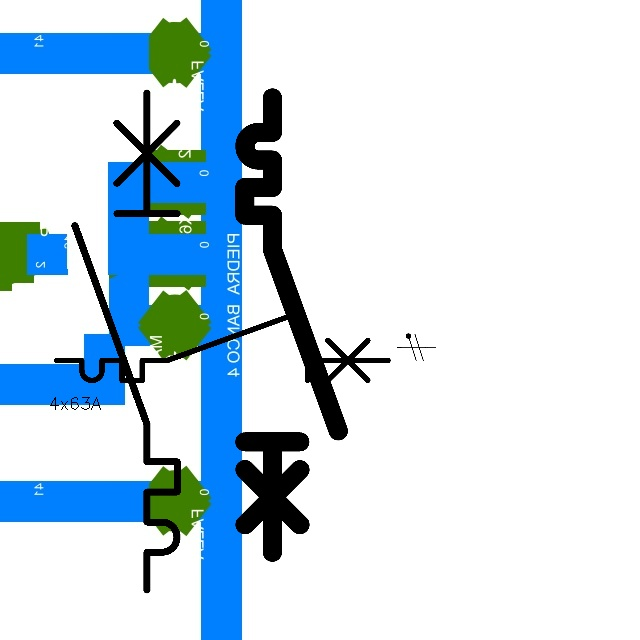interruptor_termomagnetico: (62, 80, 190, 603), (233, 86, 350, 564), (48, 304, 397, 389)
